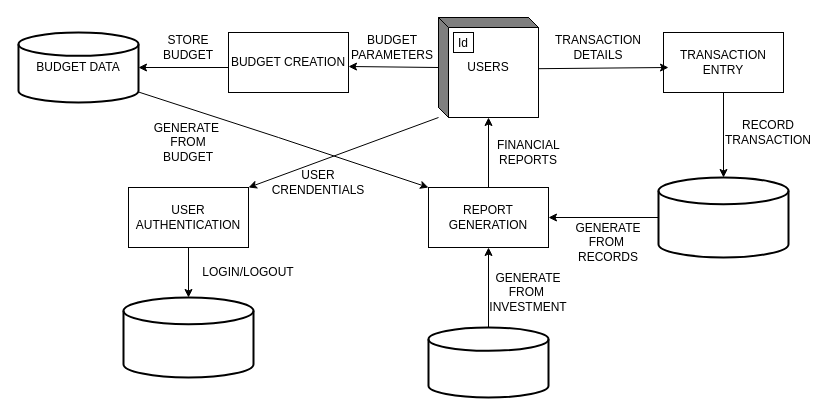
This 828x416 diagram has some shape labels left out. Each missing label, with the box of its shape:
INVESTMENT DATA: (427, 326, 549, 398)
TRANSACTION RECORDS: (657, 176, 789, 258)
USER ACCOUNT DATABASE: (122, 296, 254, 378)
